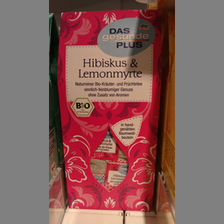tea: (55, 9, 166, 212)
